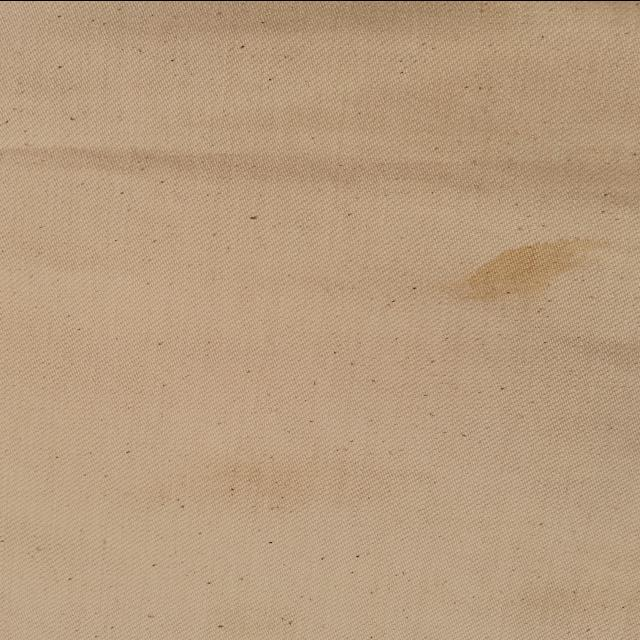taaaches: (437, 232, 629, 310)
